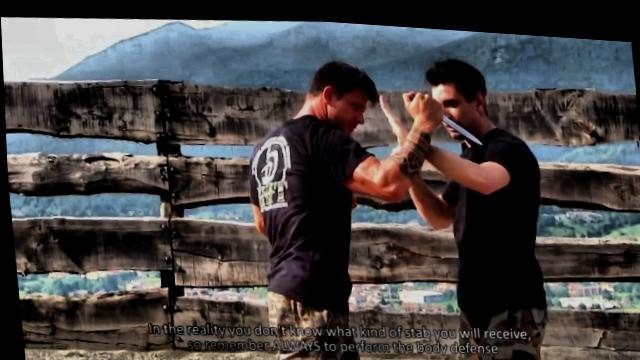knife: (400, 79, 485, 144)
